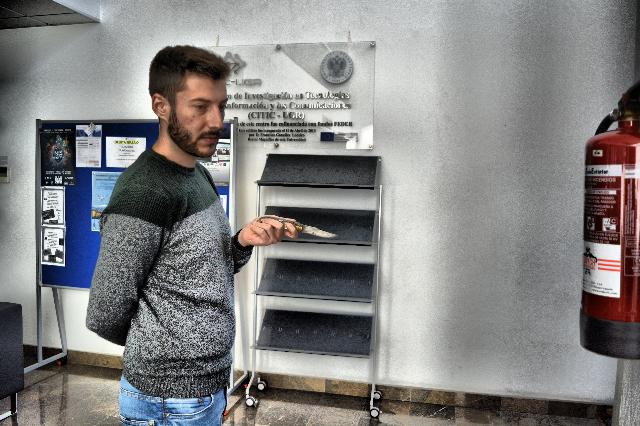knife: (255, 213, 341, 242)
